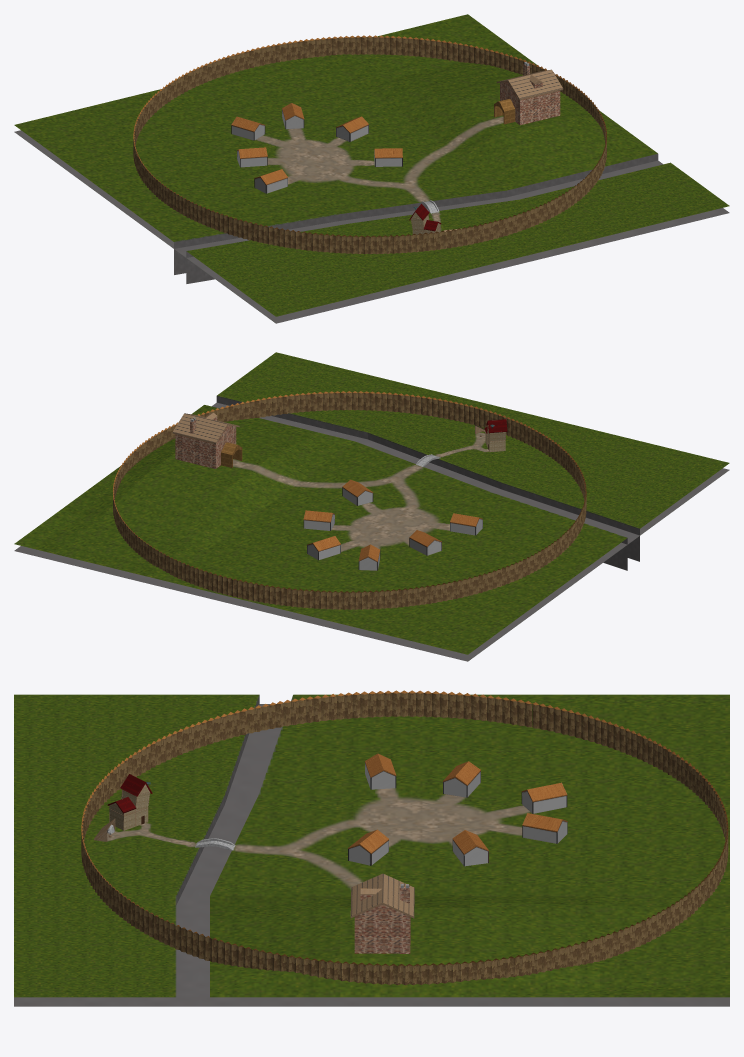
The model's file is town.fbx.
3 views of the same model, one above another, from view 1: azimuth 30°, elevation 25°; view 2: azimuth 150°, elevation 25°; view 3: azimuth 270°, elevation 25° (orthographic). The views are drawn at different scales.
Parts seen in each view (by area): view 1: Cube.002, Cube, wall corner.004, Plane.002, guildhall, blacksmith house, house.007, house.002, house, house.001, house.003, house.006; view 2: Cube.002, Cube, wall corner.004, Plane.002, guildhall, blacksmith house, house.006, house.001, house.002, house.003, house, house.007; view 3: Cube.002, Cube, wall corner.004, Plane.002, guildhall, blacksmith house, house.007, house.006, house.003, house.001, house, house.002.
Part boxes in pixels (x1=…): Cube.002: x1=14, y1=14, x2=658, y2=274; Cube: x1=186, y1=162, x2=729, y2=316; wall corner.004: x1=133, y1=35, x2=606, y2=254; Plane.002: x1=14, y1=130, x2=729, y2=323; guildhall: x1=494, y1=62, x2=563, y2=125; blacksmith house: x1=409, y1=204, x2=441, y2=234; house.007: x1=231, y1=116, x2=265, y2=140; house.002: x1=254, y1=169, x2=287, y2=193; house: x1=336, y1=116, x2=368, y2=141; house.001: x1=237, y1=147, x2=267, y2=167; house.003: x1=374, y1=148, x2=402, y2=166; house.006: x1=282, y1=103, x2=304, y2=129; Cube.002: x1=14, y1=405, x2=627, y2=654; Cube: x1=216, y1=352, x2=729, y2=561; wall corner.004: x1=113, y1=391, x2=586, y2=609; Plane.002: x1=14, y1=402, x2=729, y2=661; guildhall: x1=172, y1=412, x2=242, y2=468; blacksmith house: x1=484, y1=419, x2=507, y2=452; house.006: x1=307, y1=536, x2=340, y2=560; house.001: x1=409, y1=530, x2=441, y2=555; house.002: x1=450, y1=513, x2=482, y2=535; house.003: x1=342, y1=479, x2=373, y2=505; house: x1=303, y1=510, x2=334, y2=530; house.007: x1=358, y1=544, x2=380, y2=570; Cube.002: x1=210, y1=694, x2=729, y2=997; Cube: x1=14, y1=694, x2=259, y2=997; wall corner.004: x1=81, y1=690, x2=728, y2=985; Plane.002: x1=14, y1=704, x2=729, y2=1006; guildhall: x1=350, y1=873, x2=414, y2=953; blacksmith house: x1=107, y1=774, x2=152, y2=830; house.007: x1=521, y1=782, x2=567, y2=813; house.006: x1=522, y1=813, x2=567, y2=843; house.003: x1=348, y1=829, x2=388, y2=865; house.001: x1=443, y1=761, x2=480, y2=797; house: x1=452, y1=830, x2=488, y2=866; house.002: x1=365, y1=753, x2=396, y2=789.
Bounding box in the file's own units: 20000 × 3627 × 20000.
